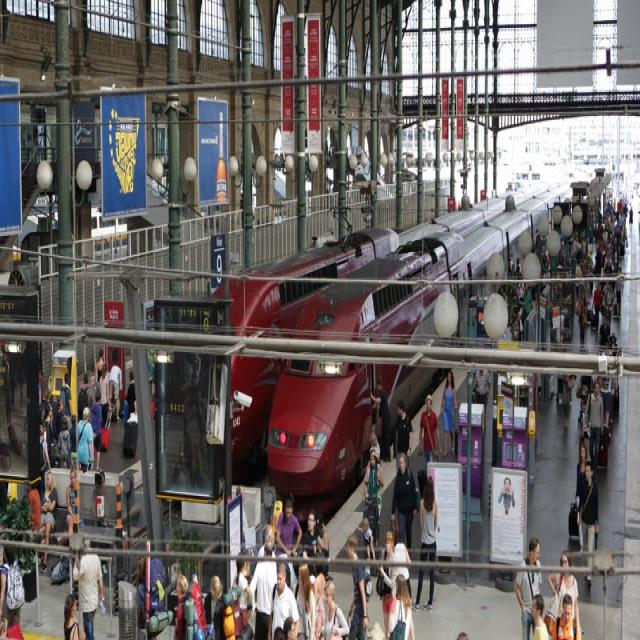body: (468, 165, 634, 438), (410, 475, 439, 612), (177, 348, 206, 484), (575, 459, 601, 589), (547, 548, 583, 639), (389, 451, 418, 561), (0, 325, 22, 468), (513, 534, 543, 638), (248, 538, 278, 638), (76, 537, 105, 640), (264, 560, 300, 639), (274, 491, 302, 589), (347, 533, 370, 640), (0, 537, 26, 631), (582, 380, 605, 481), (376, 529, 396, 639), (39, 468, 59, 575), (417, 393, 443, 471), (369, 376, 392, 460), (388, 573, 416, 640), (294, 560, 316, 640), (440, 368, 459, 460), (231, 550, 251, 630), (323, 580, 349, 640), (575, 443, 588, 553), (552, 593, 582, 640), (393, 526, 412, 598), (88, 388, 104, 472), (302, 509, 321, 579), (61, 589, 85, 639), (207, 573, 224, 640), (77, 405, 94, 472), (203, 573, 224, 627), (495, 467, 518, 516), (363, 452, 385, 503), (173, 570, 189, 640), (108, 361, 124, 423), (574, 287, 589, 353), (529, 592, 550, 639), (395, 401, 412, 459), (356, 516, 375, 567), (40, 423, 51, 508), (76, 372, 95, 421), (26, 475, 42, 532), (99, 361, 112, 431), (310, 576, 324, 639), (473, 367, 492, 413), (135, 553, 146, 631), (42, 402, 56, 462), (256, 523, 278, 561), (65, 467, 77, 536), (145, 378, 157, 446), (316, 521, 329, 583), (56, 415, 71, 468), (124, 368, 137, 419), (518, 280, 532, 327), (60, 372, 72, 417), (69, 412, 78, 471), (271, 618, 294, 638), (55, 396, 65, 436), (95, 348, 104, 384), (368, 430, 380, 454), (454, 626, 477, 638)
